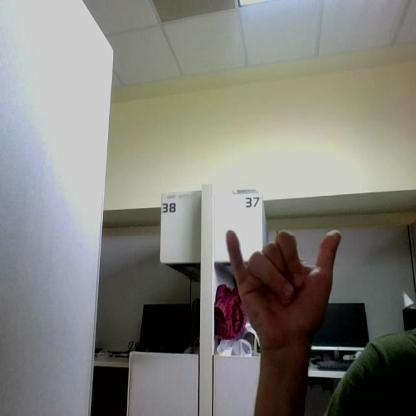Y: (226, 230, 340, 345)
